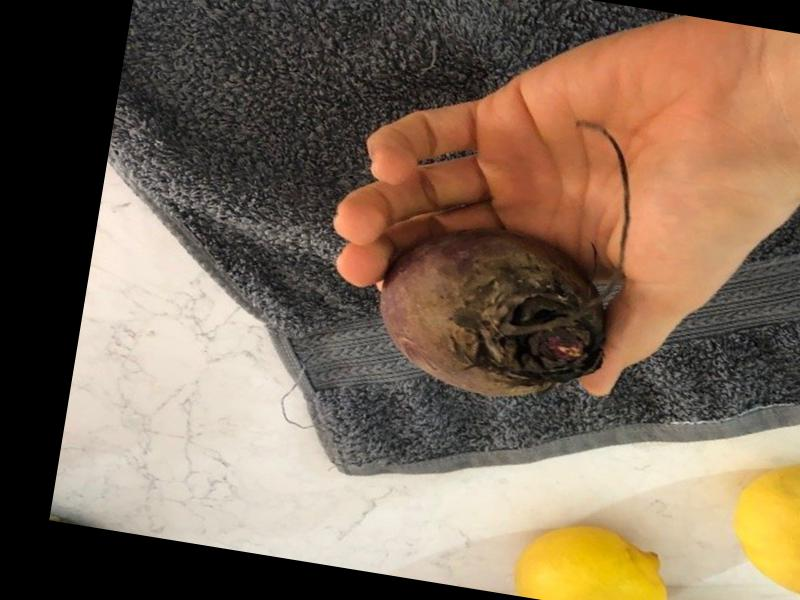Beet: (364, 93, 638, 413)
